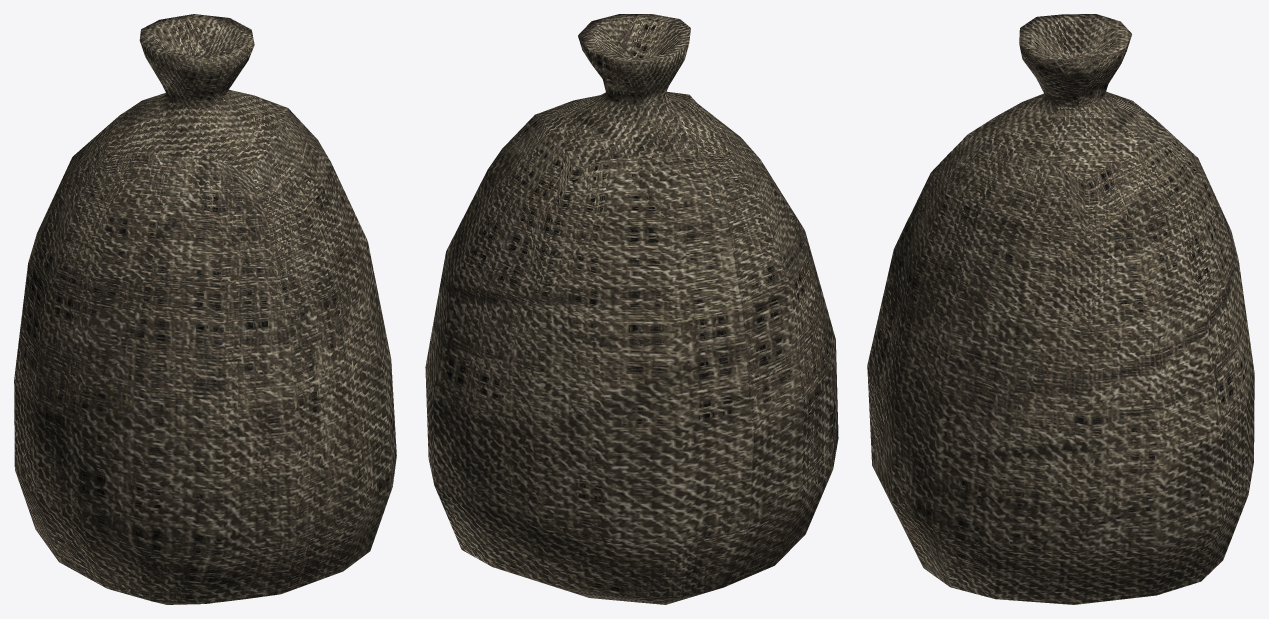
File: Sack_4.FBX
3 views of the same model, side by side, from view 1: azimuth 30°, elevation 25°; view 2: azimuth 150°, elevation 25°; view 3: azimuth 270°, elevation 25° (orthographic).
Parts seen in each view (by area): view 1: Mesh; view 2: Mesh; view 3: Mesh.
Part boxes in pixels (x1,y1,x2,y2): Mesh: [14, 14, 396, 604]; Mesh: [425, 14, 838, 604]; Mesh: [867, 14, 1254, 604].
Size of the model in its own units: 60.57 by 59.97 by 91.33.
